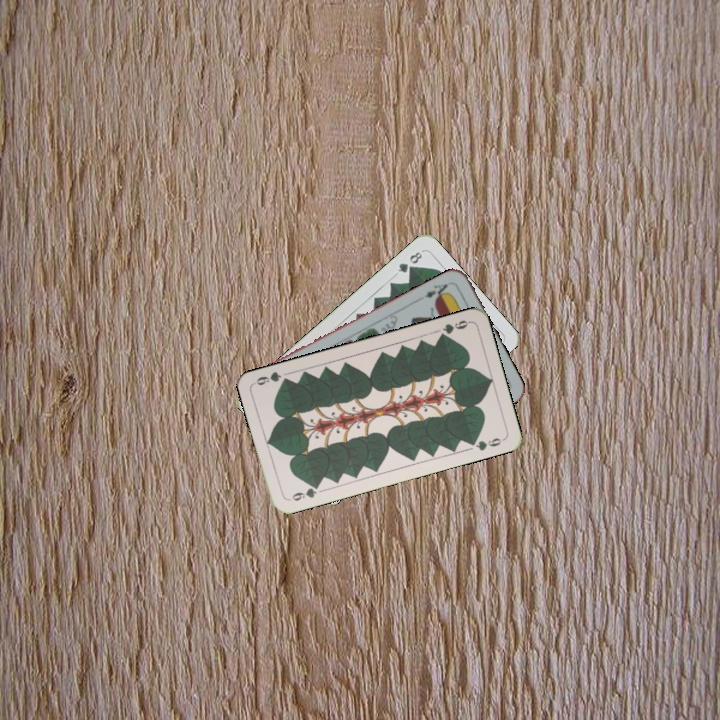EA: (420, 278, 454, 302)
G8: (393, 248, 425, 276)
G9: (435, 316, 473, 341), (288, 480, 323, 503)
